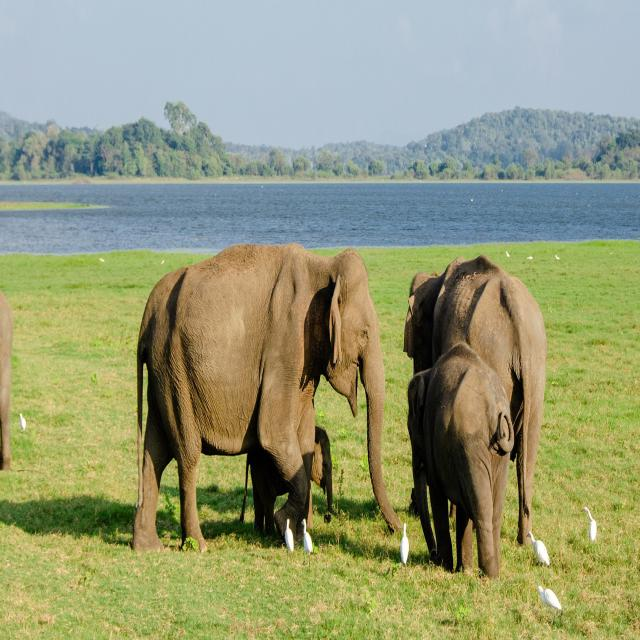Elephant: (130, 234, 396, 561), (402, 253, 538, 544), (401, 344, 513, 587)
